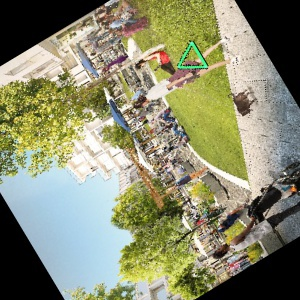triangle: (175, 38, 210, 70)
